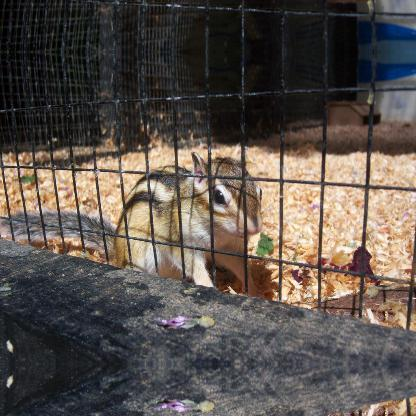Squirrel: (0, 148, 283, 299)
